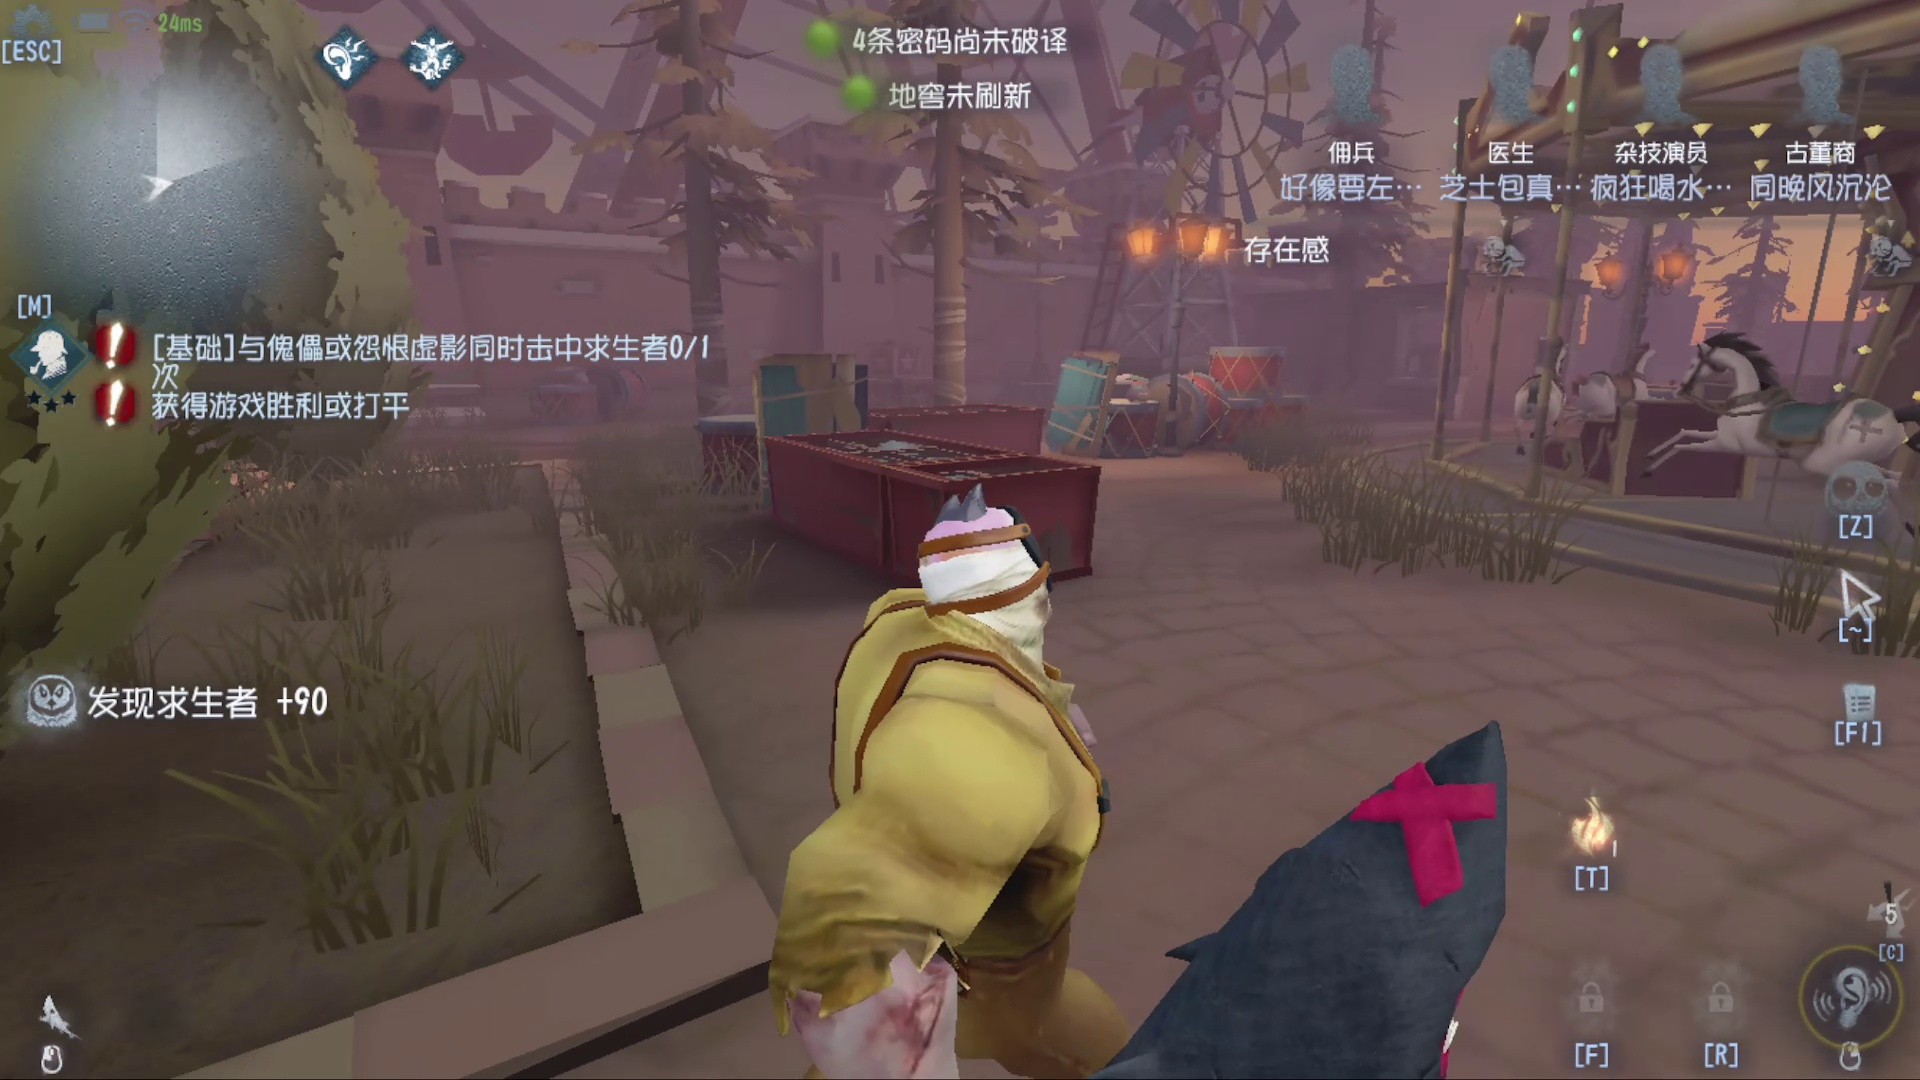木板: (723, 342, 890, 502), (1038, 343, 1125, 471)
